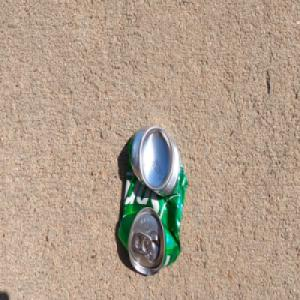SodaCan: (117, 124, 188, 277)
